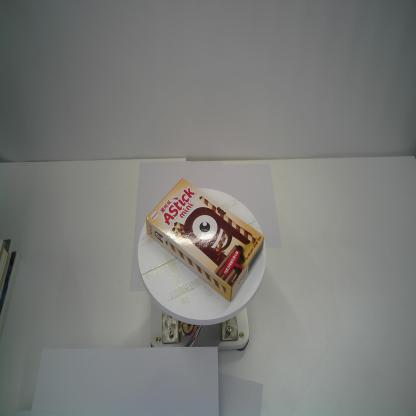Dessert: (145, 175, 266, 302)
